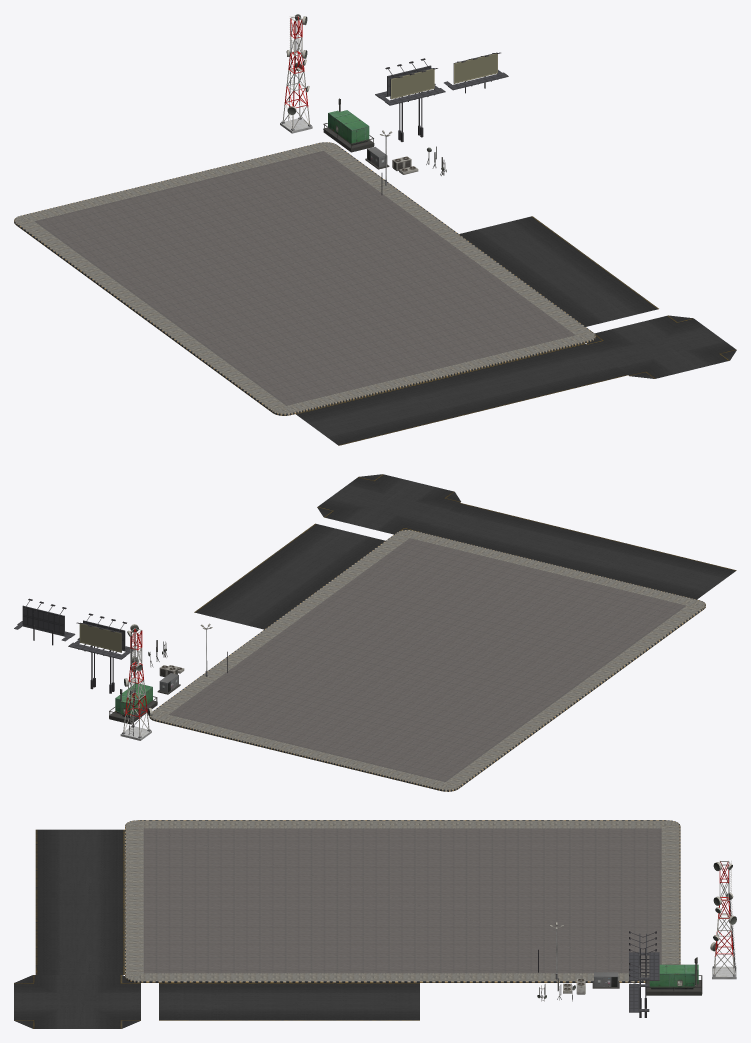
Rendered from Street_assets.fbx.
3 renders of one model, top to bottom at view 1: azimuth 30°, elevation 25°; view 2: azimuth 150°, elevation 25°; view 3: azimuth 270°, elevation 25°, orthographic. The views are drawn at different scales.
Parts seen in each view (by area): view 1: Footpath, Road2, Road, Road1, Hoarding, Tele_1, Generator02, Hoarding1; view 2: Footpath, Road2, Road, Road1, Hoarding, Tele_1, Generator02, Hoarding1; view 3: Footpath, Road2, Road, Road1, Tele_1, Generator02, Hoarding, Hoarding1, Generator01.
Part boxes in pixels (box(x1,y1,x2,y2)): Footpath: box(14, 142, 595, 415); Road2: box(296, 343, 627, 445); Road: box(459, 216, 658, 326); Road1: box(586, 315, 736, 378); Hoarding: box(375, 58, 445, 141); Tele_1: box(280, 14, 312, 133); Generator02: box(323, 98, 374, 152); Hoarding1: box(444, 52, 508, 93); Footpath: box(149, 530, 705, 791); Road2: box(420, 503, 736, 599); Road: box(194, 523, 385, 629); Road1: box(317, 474, 460, 534); Hoarding: box(68, 613, 133, 693); Tele_1: box(120, 624, 152, 740); Generator02: box(109, 683, 157, 724); Hoarding1: box(14, 598, 75, 645); Footpath: box(125, 820, 680, 982); Road2: box(35, 829, 124, 974); Road: box(159, 983, 419, 1020); Road1: box(14, 975, 140, 1028); Tele_1: box(710, 860, 736, 979); Generator02: box(646, 957, 702, 995); Hoarding: box(629, 931, 659, 1017); Hoarding1: box(629, 963, 649, 1015); Generator01: box(592, 972, 619, 988).
Bounding box in the file's own units: 8231 × 1881 × 10564.
4 materials, 4 textured.
